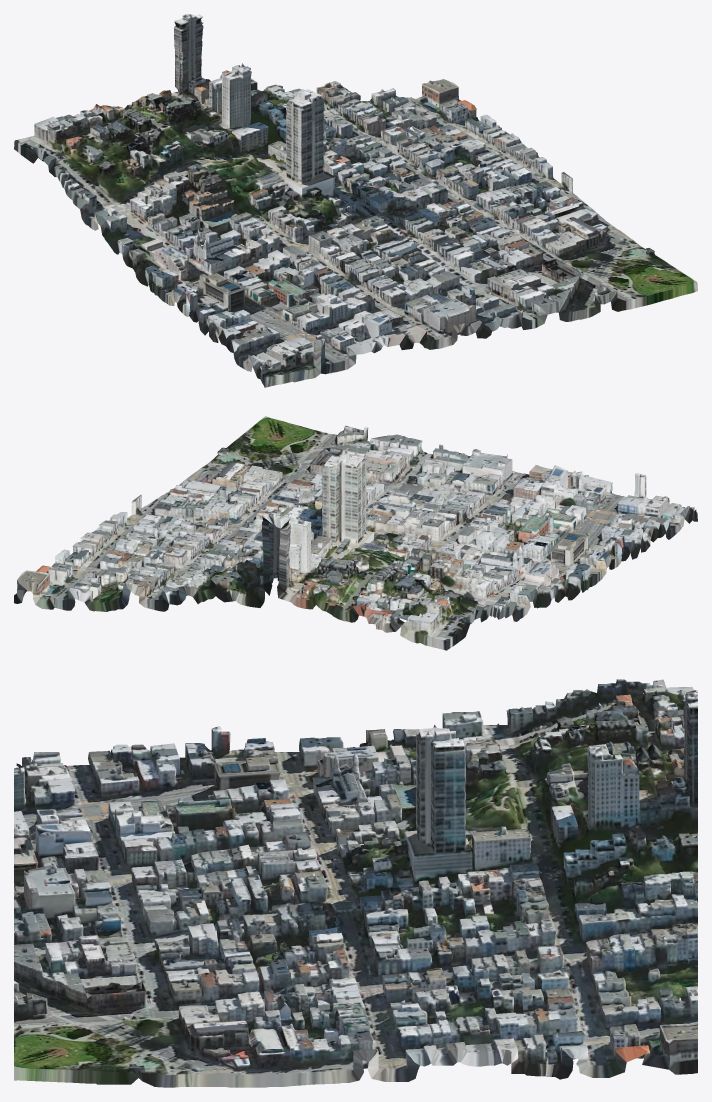
The model's file is z16-10483-25325-h0-yup-uvflip-v3-world.glb.
3 views of the same model, one above another, from view 1: azimuth 30°, elevation 25°; view 2: azimuth 150°, elevation 25°; view 3: azimuth 270°, elevation 25° (orthographic). The views are drawn at different scales.
Size of the model in its own units: 484 by 174 by 485.
Materials: 1 (1 with a texture image).
